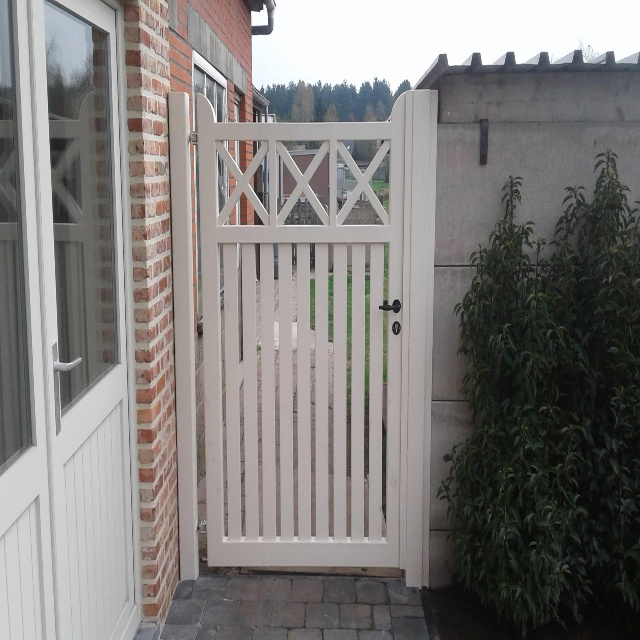obstacle: (64, 69, 640, 461)
